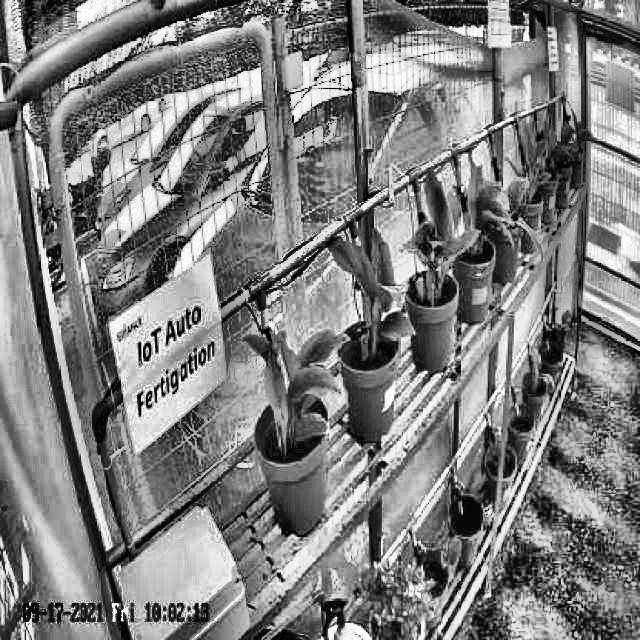plants: (246, 328, 349, 441), (326, 230, 417, 342), (404, 169, 478, 289), (462, 164, 504, 258)
